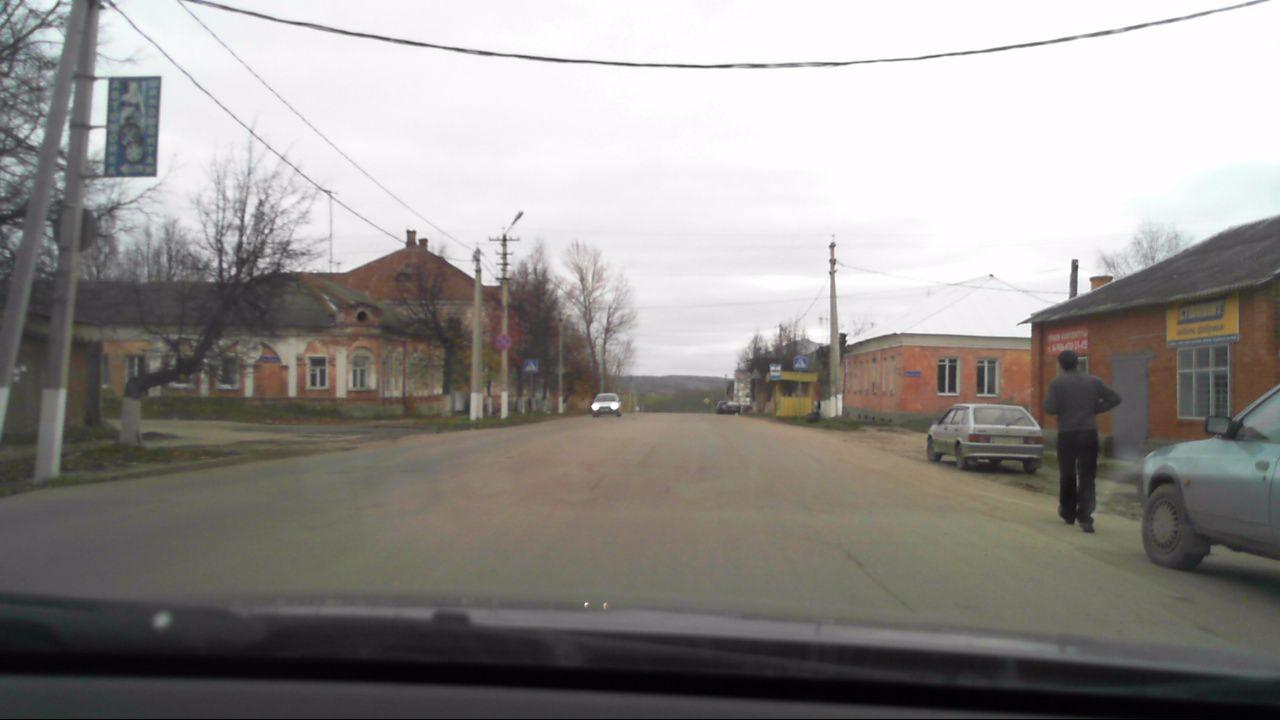3_27: (494, 334, 511, 351)
5_16: (769, 363, 782, 378)
5_19_1: (794, 356, 808, 370)
5_19_2: (525, 359, 538, 372)
